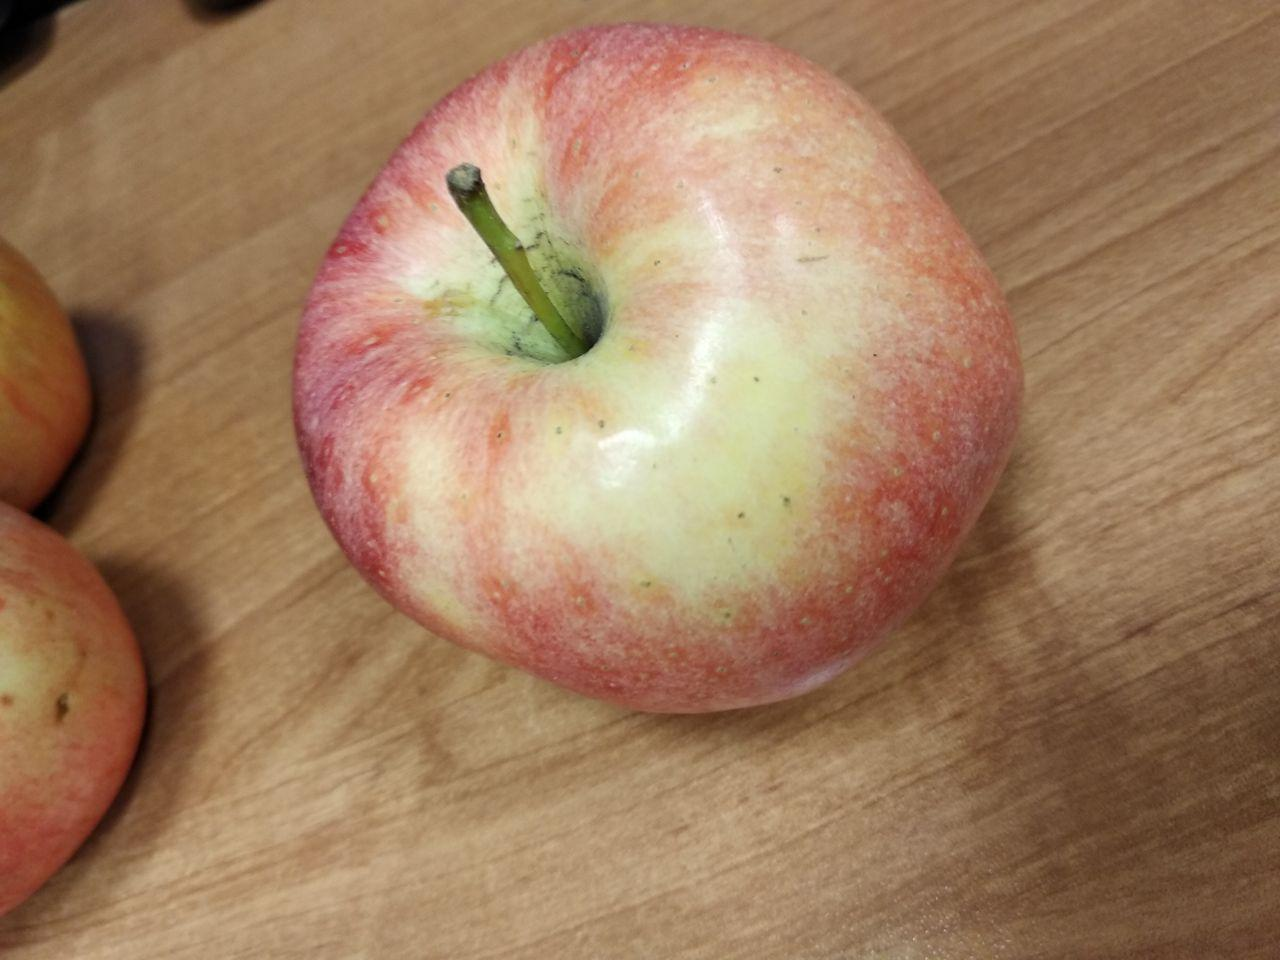Apple: (291, 18, 1015, 711)
